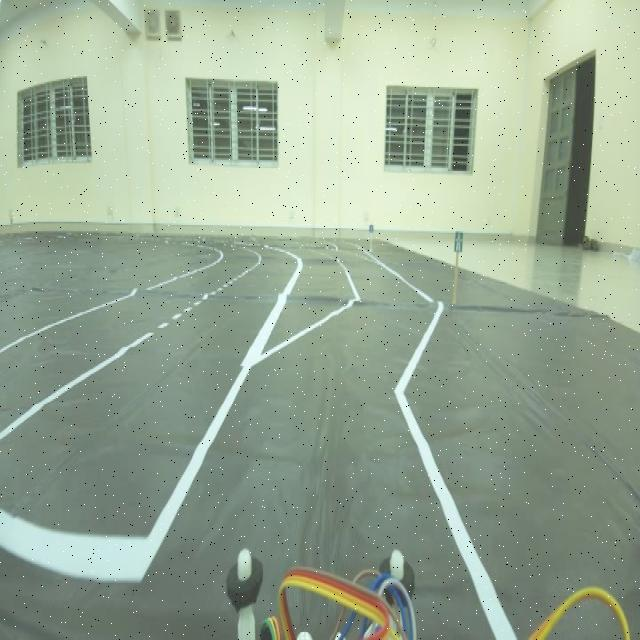highway_entry: (452, 222, 466, 258)
